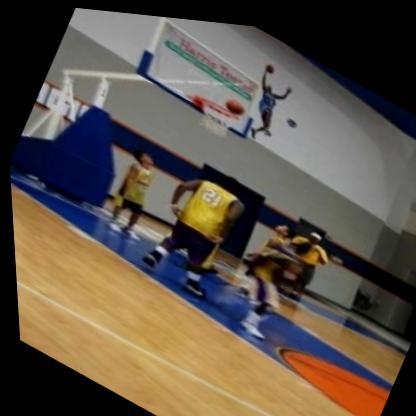basketball: (221, 90, 247, 115)
